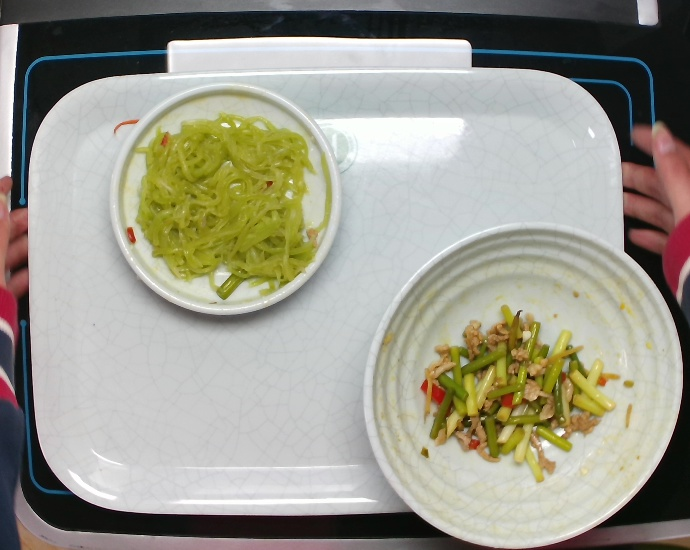JYsf-Da_Tang_Wan: (359, 219, 686, 550)
JYsf-Xiao_Yuan_Pan: (105, 80, 343, 318)
